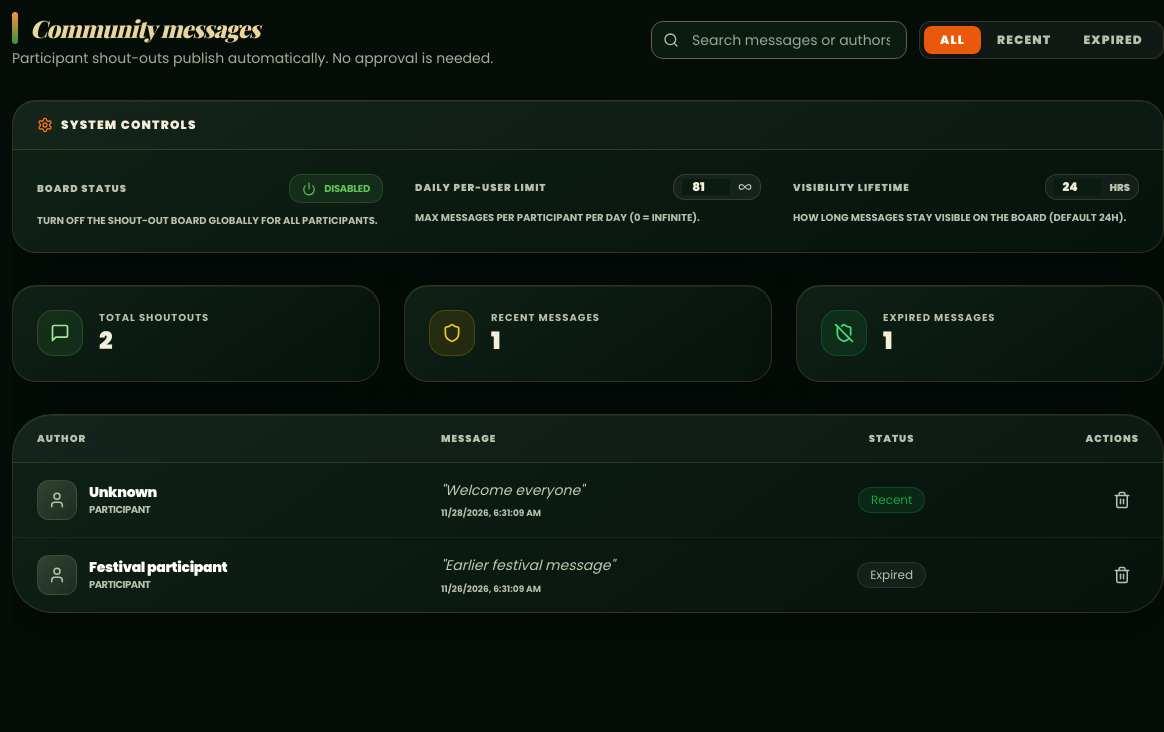
Test case: shows posted message age instead of an approval queue or manual approval actions
Click the button "recent": (1024, 40) [981, 26, 1068, 54]
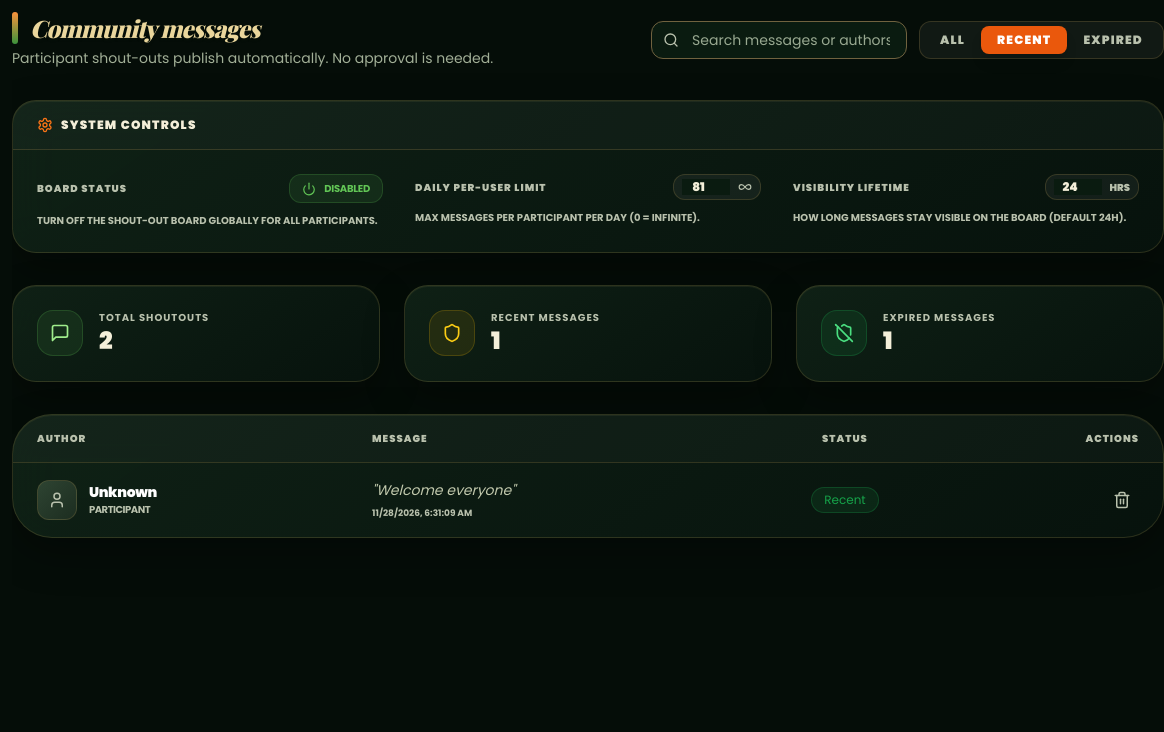
Expected: the text "Welcome everyone" is shown, [376, 480, 511, 500]
Now the text "Earlier festival message" is gone
Click the button "expired": (1113, 40) [1068, 26, 1159, 54]
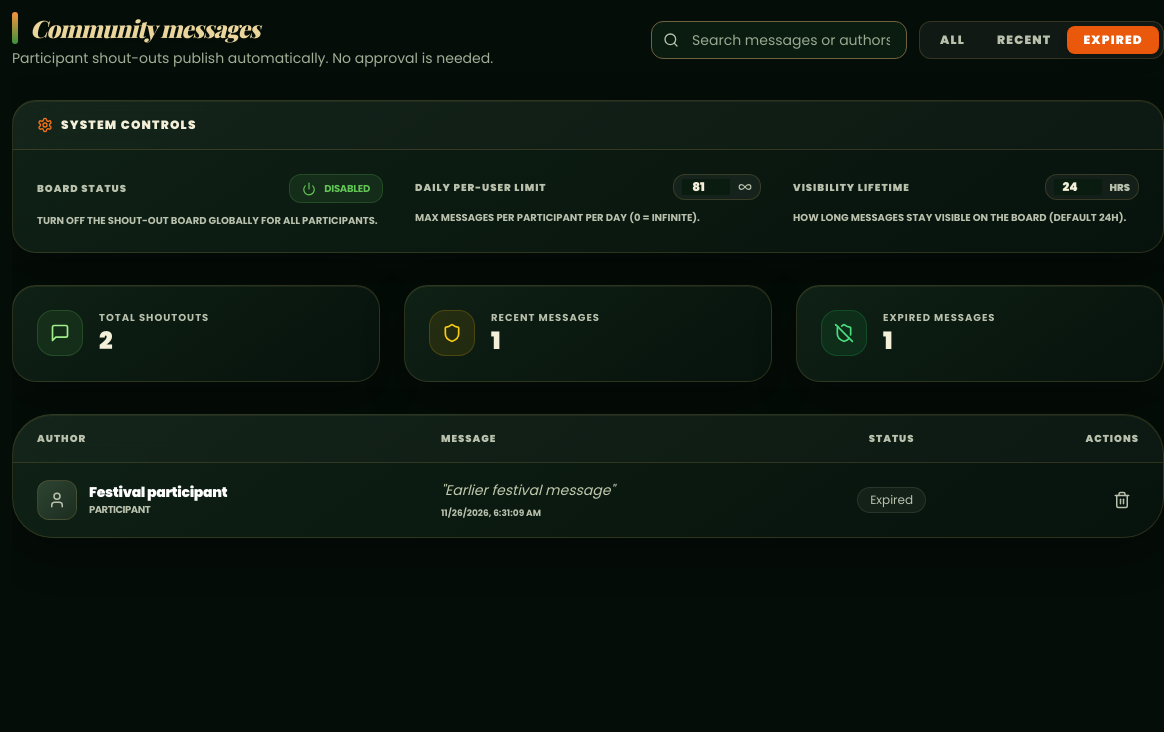
Now the text "Welcome everyone" is gone
Now the text "Earlier festival message" is shown, box [445, 480, 610, 500]
